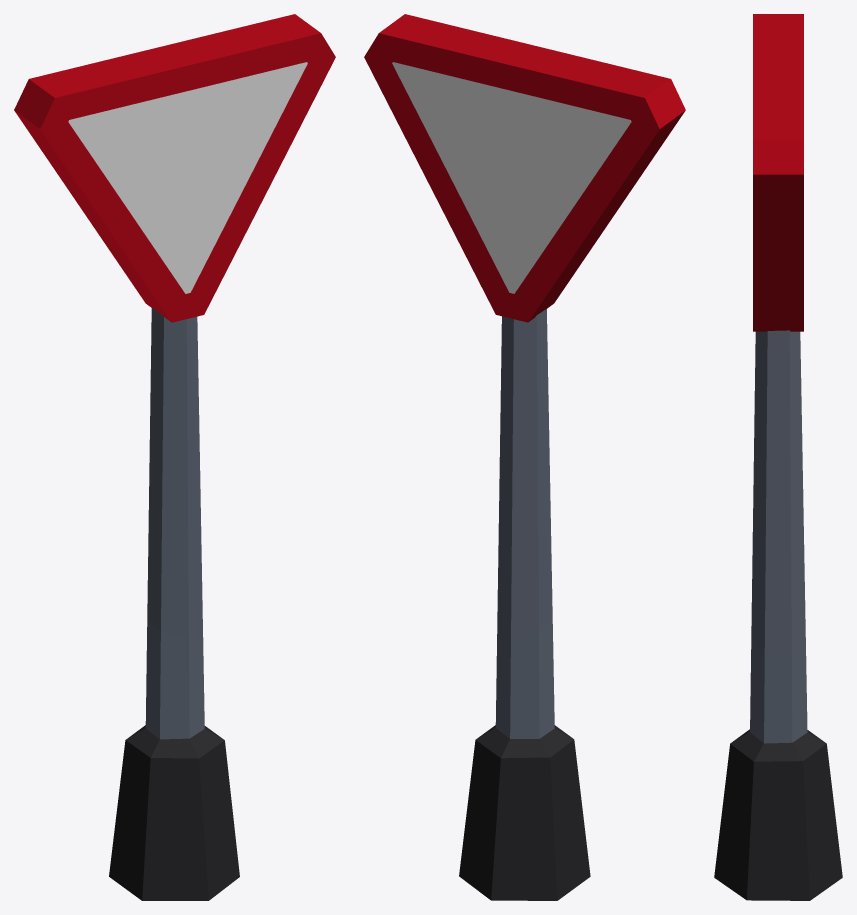
File: Road Sign 1 Fractured.fbx
3 views of the same model, side by side, from view 1: azimuth 30°, elevation 25°; view 2: azimuth 150°, elevation 25°; view 3: azimuth 270°, elevation 25° (orthographic). The views are drawn at different scales.
Parts seen in each view (by area): view 1: Road_Sign_01_Breaking.002, Road_Sign_01_Breaking, Road_Sign_01_Breaking.001; view 2: Road_Sign_01_Breaking.002, Road_Sign_01_Breaking, Road_Sign_01_Breaking.001; view 3: Road_Sign_01_Breaking.001, Road_Sign_01_Breaking, Road_Sign_01_Breaking.002.
Part boxes in pixels (left/top/right/bottom): Road_Sign_01_Breaking.002: left=14, top=14, right=335, bottom=254; Road_Sign_01_Breaking: left=100, top=191, right=267, bottom=640; Road_Sign_01_Breaking.001: left=109, top=621, right=239, bottom=900; Road_Sign_01_Breaking.002: left=364, top=14, right=685, bottom=254; Road_Sign_01_Breaking: left=432, top=191, right=599, bottom=640; Road_Sign_01_Breaking.001: left=459, top=621, right=590, bottom=900; Road_Sign_01_Breaking.001: left=714, top=637, right=842, bottom=900; Road_Sign_01_Breaking: left=751, top=256, right=805, bottom=656; Road_Sign_01_Breaking.002: left=753, top=14, right=803, bottom=255.
Size of the model in its own units: 58.04 by 154 by 22.44.
